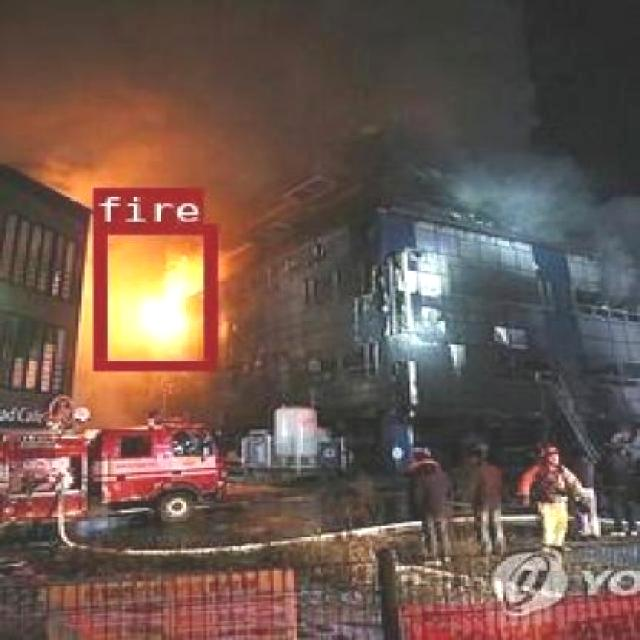fire: (92, 223, 214, 369)
